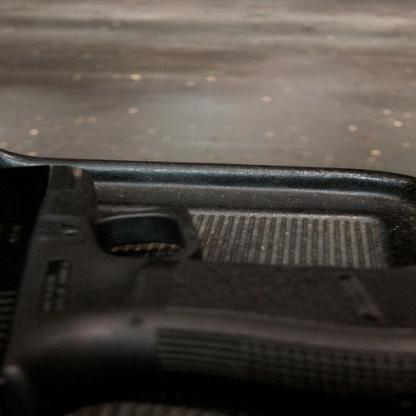gun: (0, 163, 415, 415)
